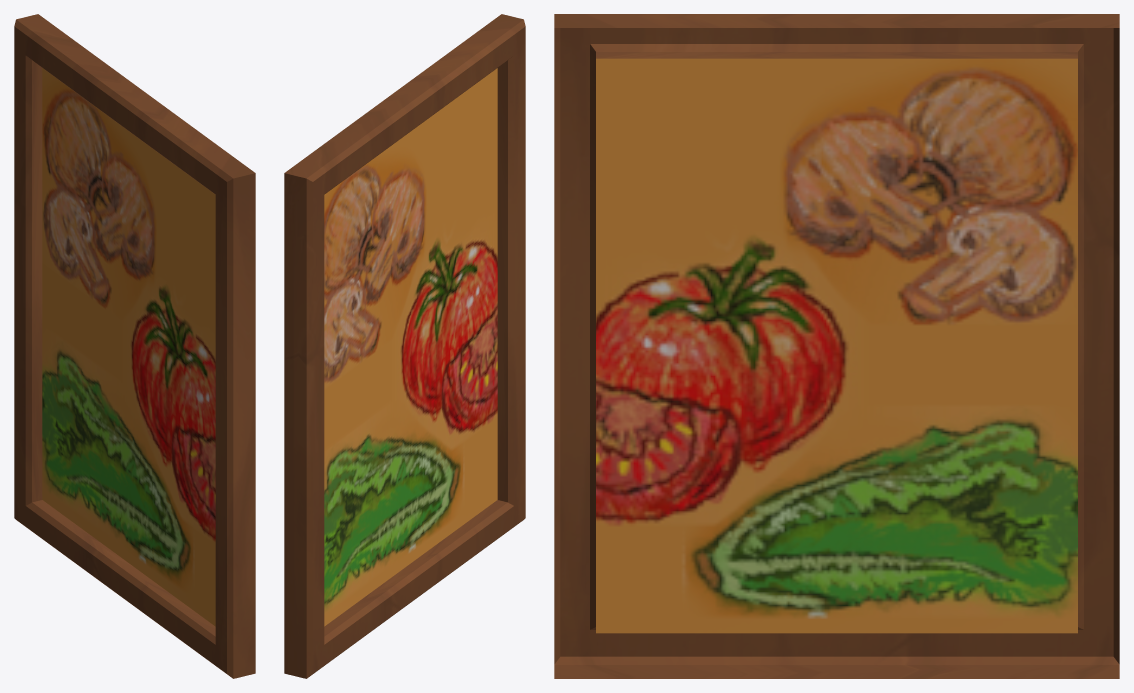
The model's file is Painting2.fbx.
3 views of the same model, side by side, from view 1: azimuth 30°, elevation 25°; view 2: azimuth 150°, elevation 25°; view 3: azimuth 270°, elevation 25° (orthographic). The views are drawn at different scales.
Parts seen in each view (by area): view 1: Painting2; view 2: Painting2; view 3: Painting2.
Part boxes in pixels (left/top/right/bottom): Painting2: left=14, top=14, right=255, bottom=678; Painting2: left=284, top=14, right=525, bottom=678; Painting2: left=554, top=14, right=1119, bottom=678.
Size of the model in its own units: 9.69 by 176 by 139.
